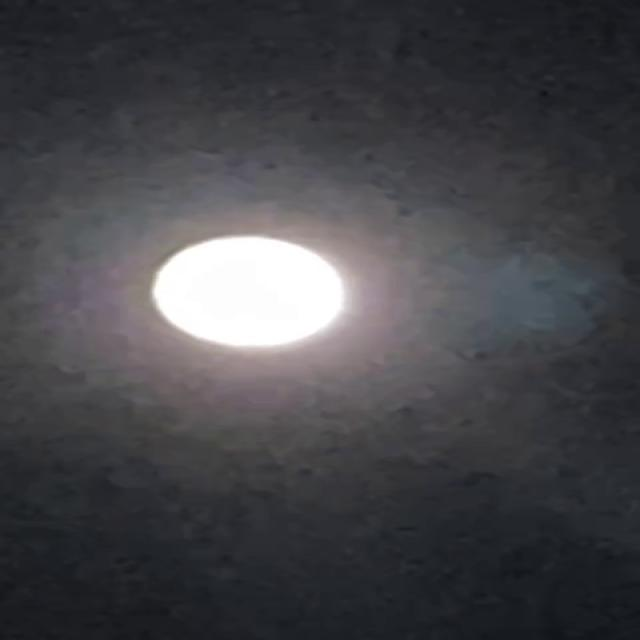moon: (137, 229, 363, 350)
